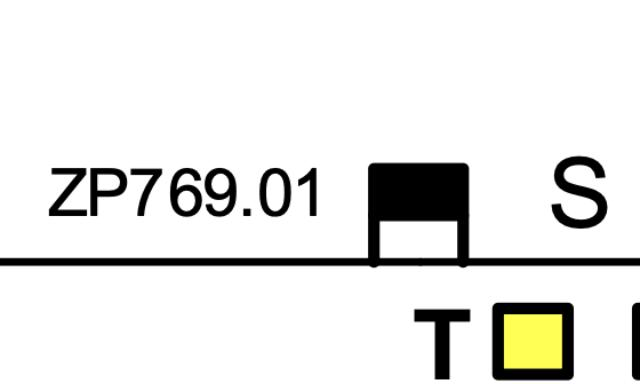radzaehler: (359, 156, 477, 270)
